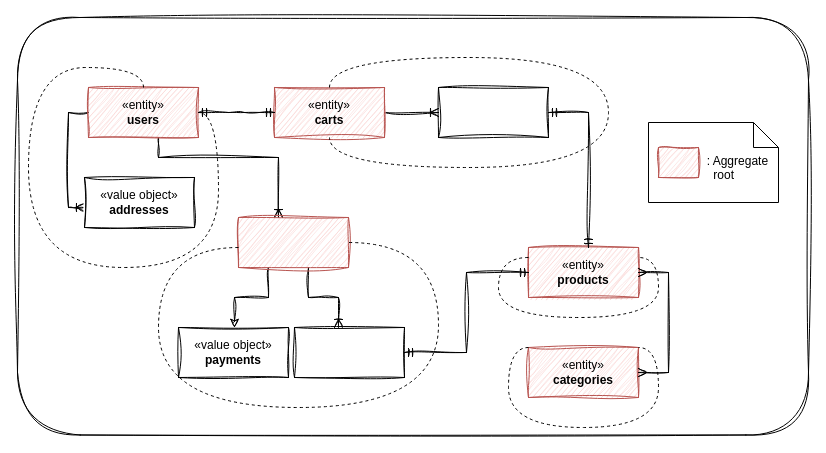
Some shapes in this 826 by 453 pixel diagram are drawn without their labels. The shapes that lost their labels are listed below. From the top down, each one's centre as x and y in pixels, then its label:
the point at 493,112: «value object» cart _items
the point at 293,242: «entity» orders
the point at 349,352: «value object» order_items
